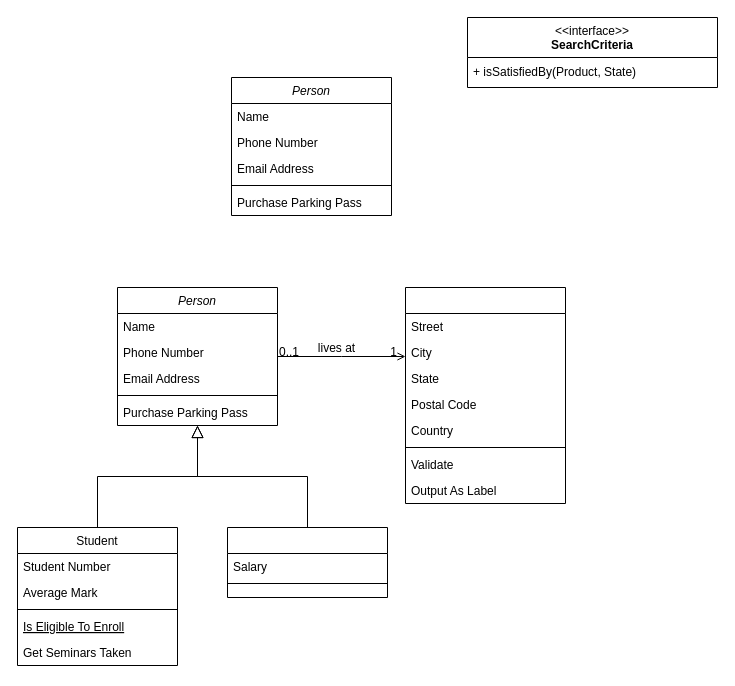
Image size: 735x686. Some labels were removed from this diagram. The box of each missing label's shape, as (x1, y1, x2, y2) in pixels:
Address: (404, 286, 566, 504)
Professor: (226, 526, 388, 598)
